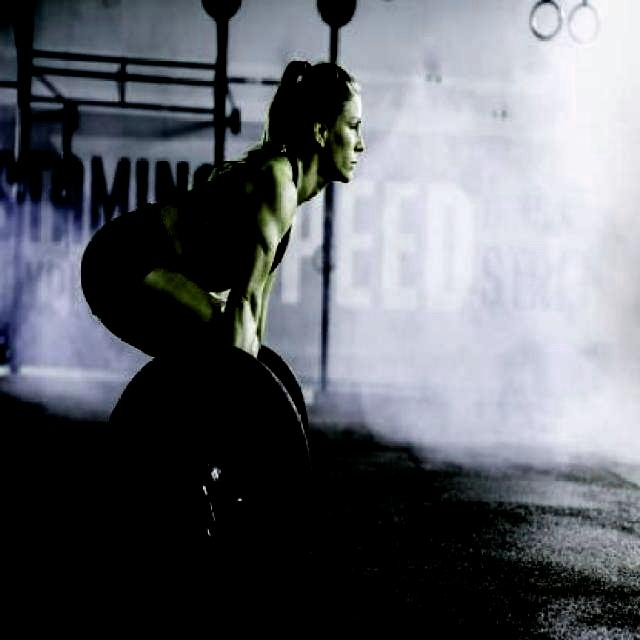barbell: (95, 327, 213, 520)
